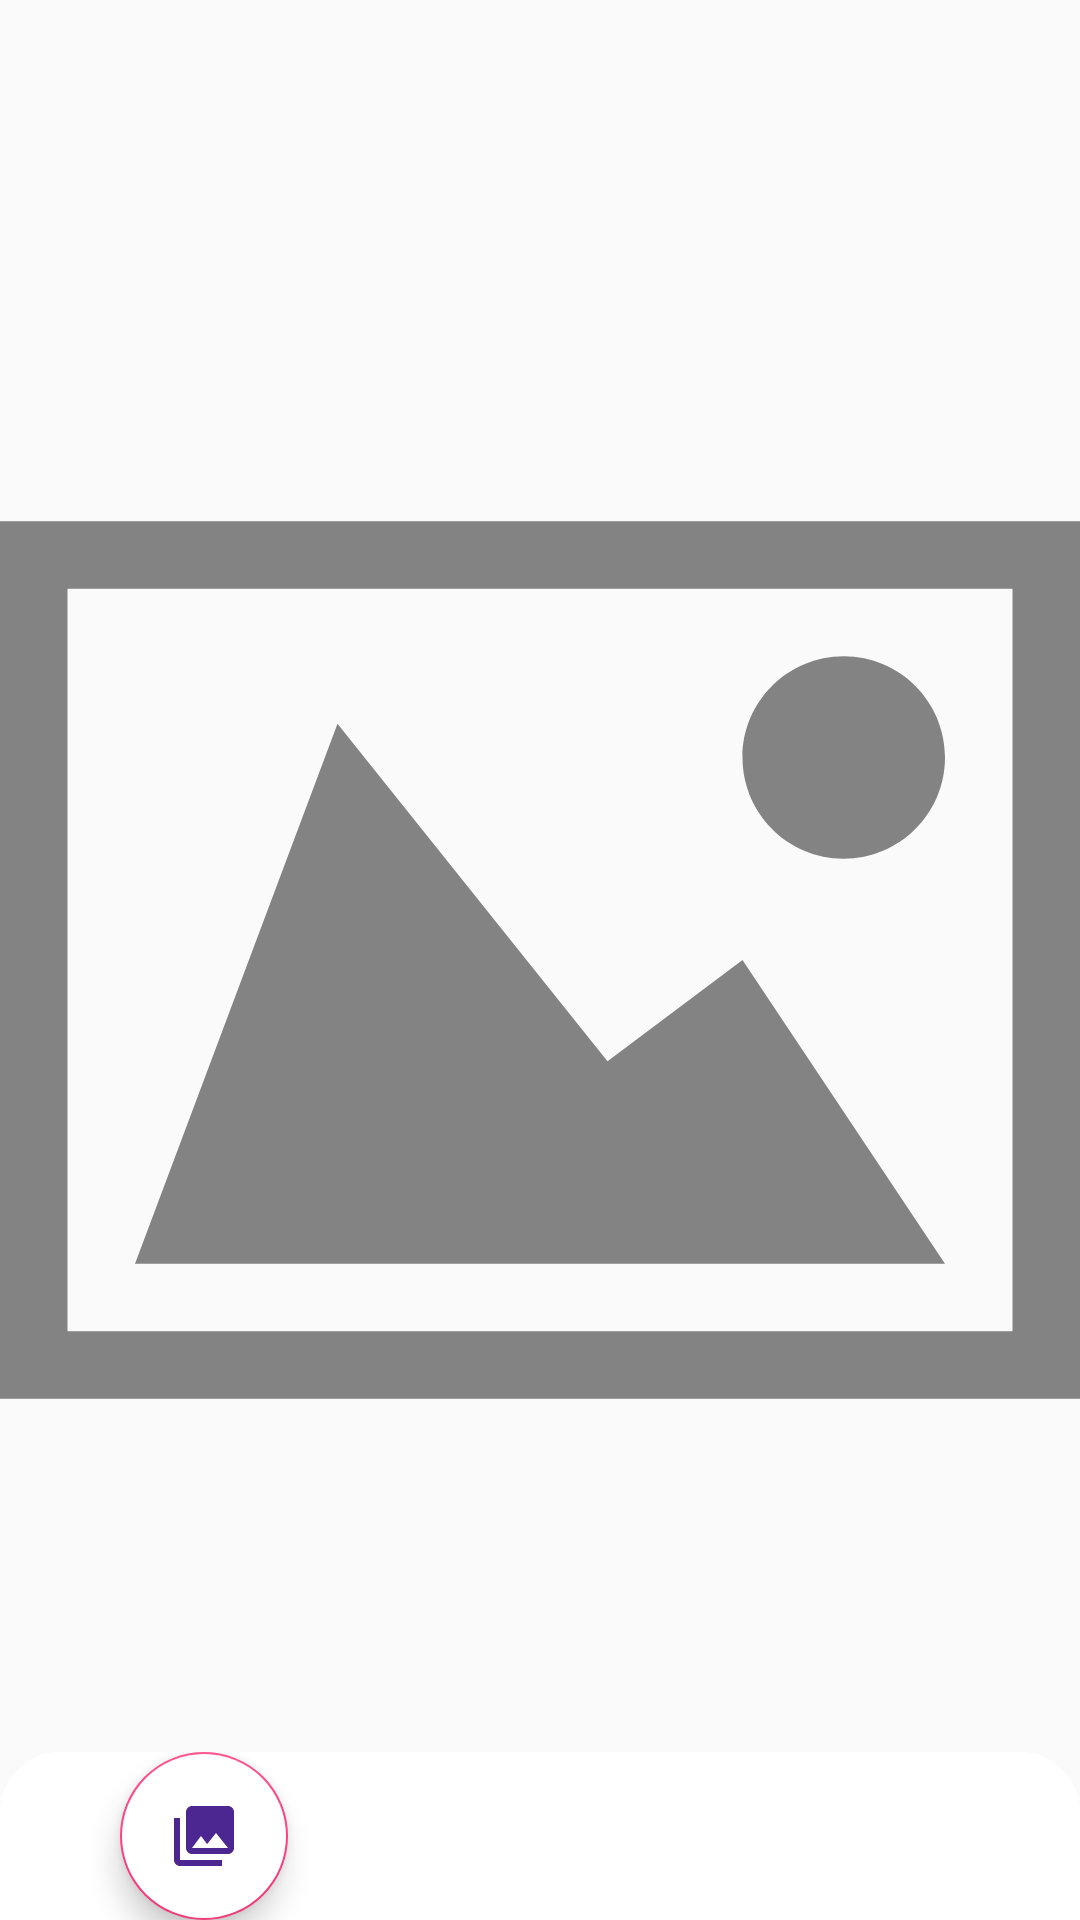

Icon click points for this 1080w x 1920h phone screenshot, format [x,y]:
collections: [204,1836]
